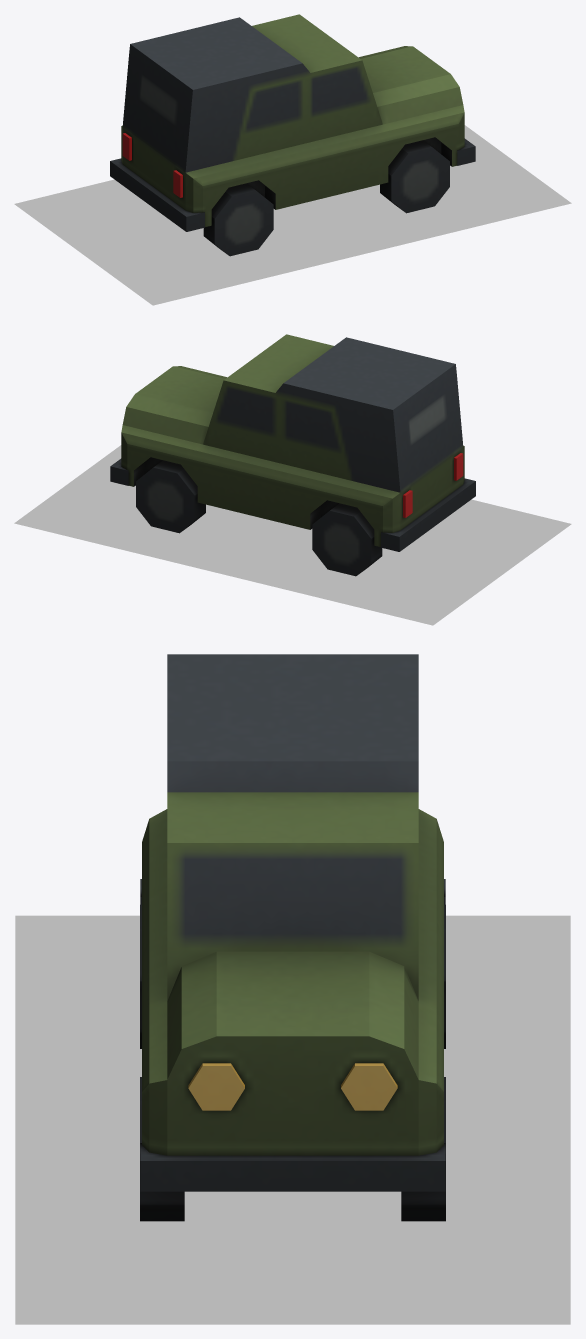
The model's file is 2x1_uaz.FBX.
3 renders of one model, top to bottom at view 1: azimuth 30°, elevation 25°; view 2: azimuth 150°, elevation 25°; view 3: azimuth 270°, elevation 25°, orthographic. The views are drawn at different scales.
Visible parts, largest first — view 1: 2x1_uaz, 2x1_uaz_soft_shadow; view 2: 2x1_uaz, 2x1_uaz_soft_shadow; view 3: 2x1_uaz, 2x1_uaz_soft_shadow.
Part boxes in pixels (x1,y1,x2,y2): 2x1_uaz: (110,14,475,256); 2x1_uaz_soft_shadow: (14,125,571,305); 2x1_uaz: (110,334,475,576); 2x1_uaz_soft_shadow: (14,445,571,625); 2x1_uaz: (140,654,445,1221); 2x1_uaz_soft_shadow: (15,915,570,1324).
Size of the model in its own units: 2588 by 1009 by 1486.
